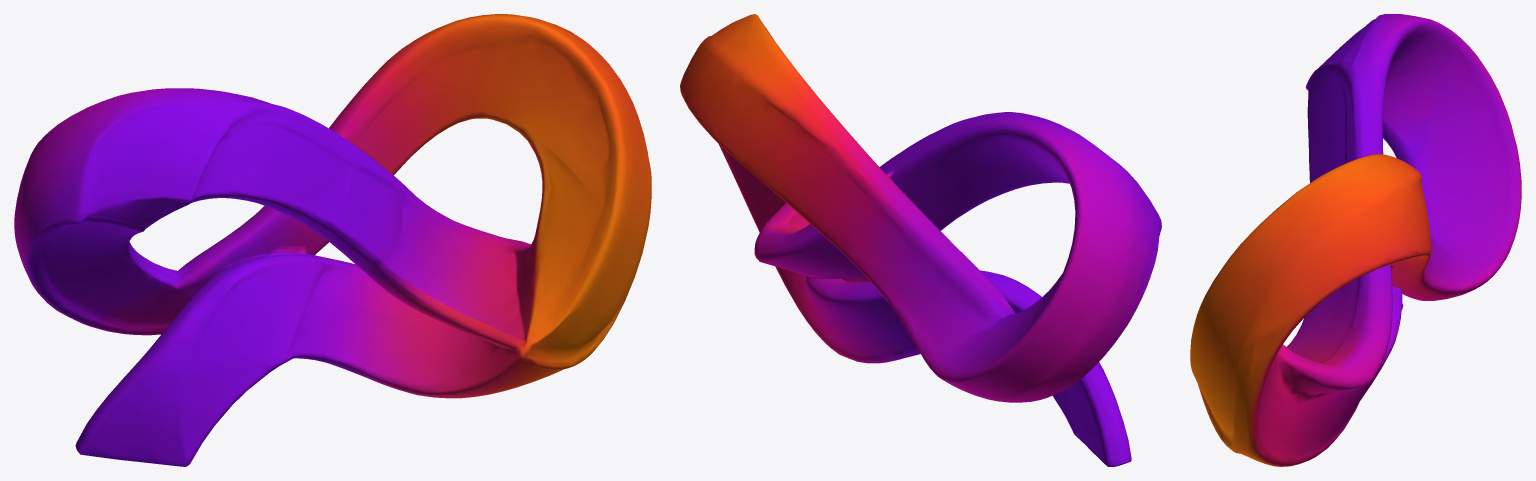
Rendered from infinity symbol 3d model.glb.
3 views of the same model, side by side, from view 1: azimuth 30°, elevation 25°; view 2: azimuth 150°, elevation 25°; view 3: azimuth 270°, elevation 25° (orthographic). The views are drawn at different scales.
Visible parts, largest first — view 1: tripo_node_220ce14c-7704-467c-bab9-933b9fe23b27; view 2: tripo_node_220ce14c-7704-467c-bab9-933b9fe23b27; view 3: tripo_node_220ce14c-7704-467c-bab9-933b9fe23b27.
Part boxes in pixels (x1,y1,x2,y2): tripo_node_220ce14c-7704-467c-bab9-933b9fe23b27: (14,14,651,466); tripo_node_220ce14c-7704-467c-bab9-933b9fe23b27: (680,14,1161,466); tripo_node_220ce14c-7704-467c-bab9-933b9fe23b27: (1190,14,1521,466).
Size of the model in its own units: 0.9802 by 0.6151 by 0.5532.
Materials: 1 (1 with a texture image).
